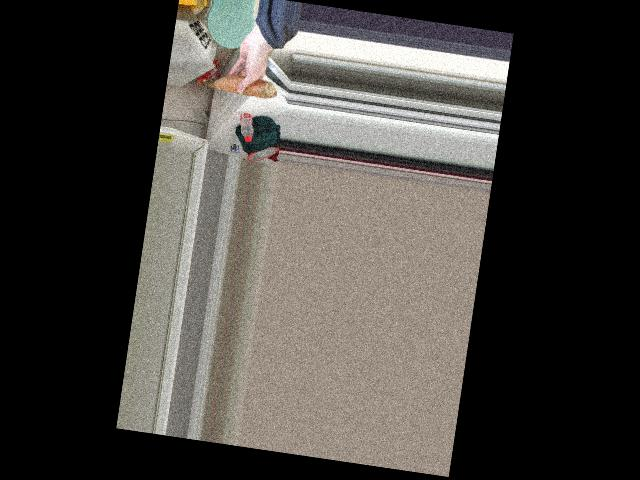sweet_potato: (210, 71, 272, 98)
